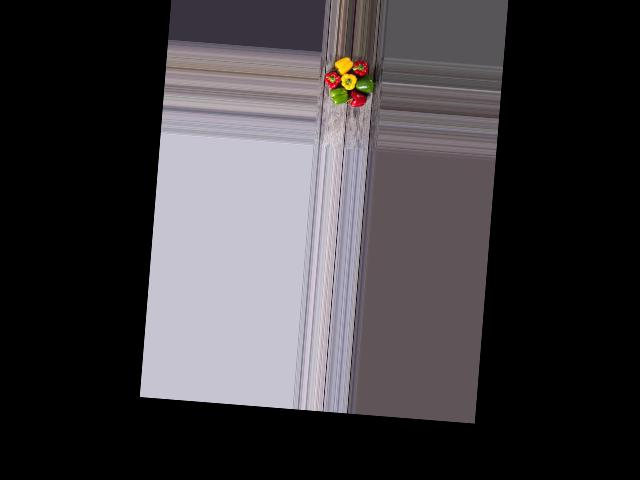bell_pepper: (349, 55, 369, 76)
